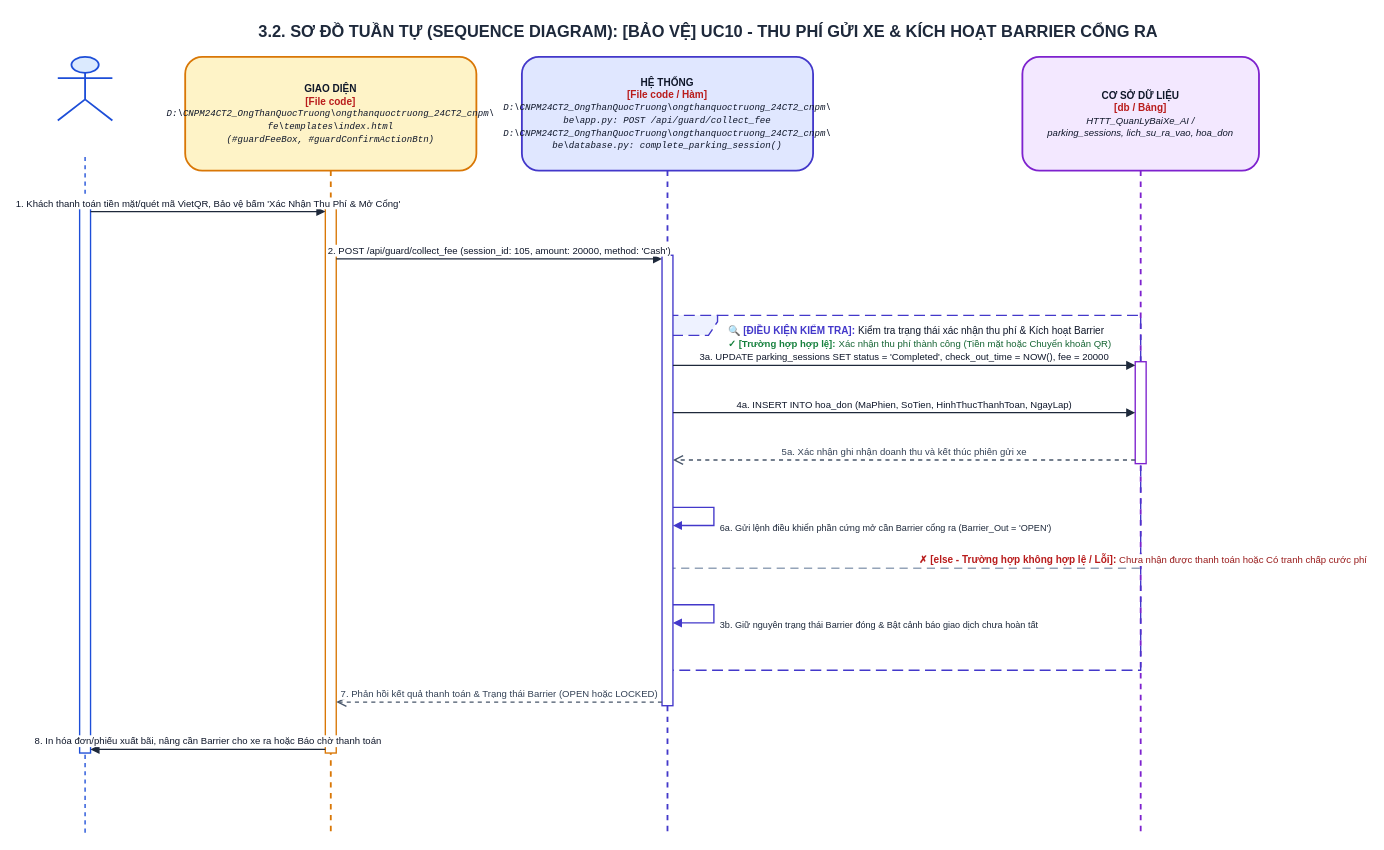
The diagram is 1384 pixels wide and 850 high, and some of its shapes have lost their labels. The shapes that lost their labels are listed below. From the top down, each one's box as (x1, y1, x2, y2) in pixels, then its label:
(56, 56, 113, 121): TÁC NHÂN Nhân Viên Bảo Vệ (Security Guard)
(666, 314, 1141, 670): alt
